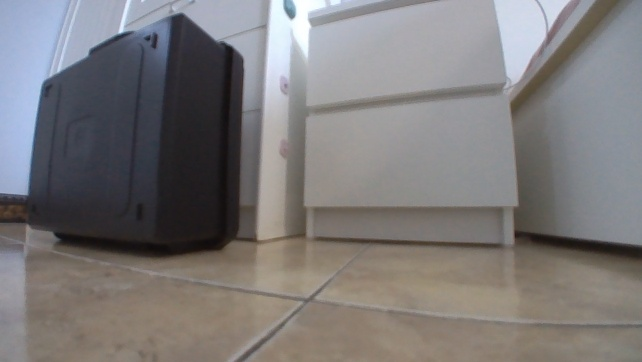bed1: (510, 0, 641, 253)
cabinet: (300, 0, 519, 248)
